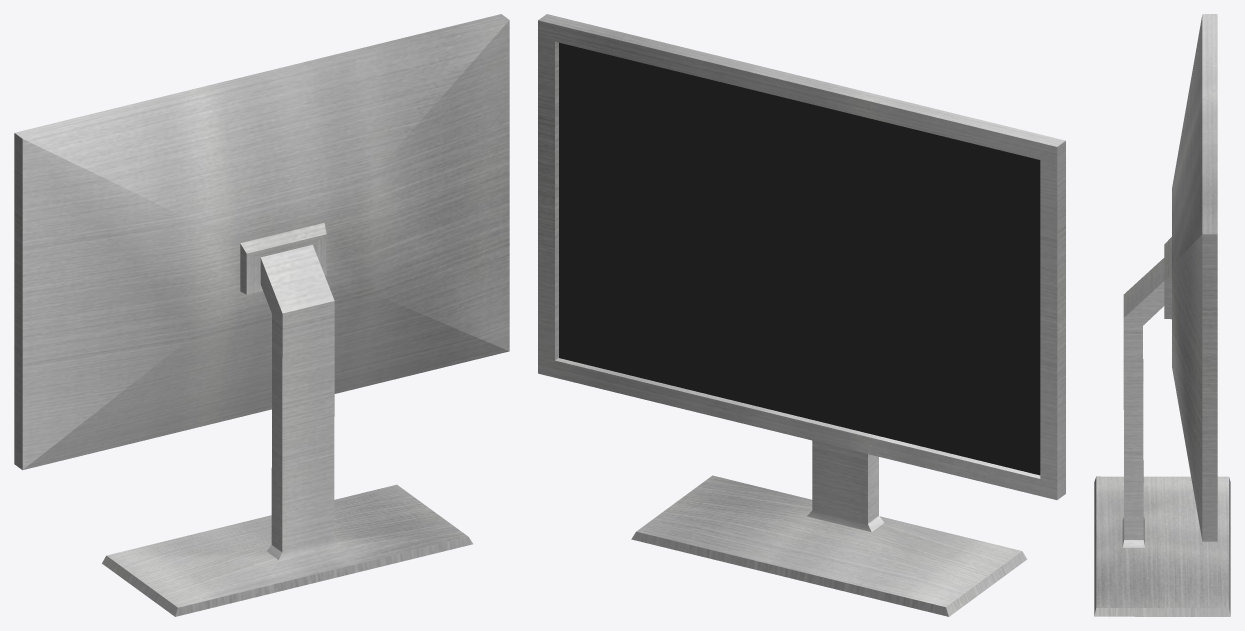
The model's file is screen.fbx.
3 renders of one model, left to right at view 1: azimuth 30°, elevation 25°; view 2: azimuth 150°, elevation 25°; view 3: azimuth 270°, elevation 25°, orthographic. The views are drawn at different scales.
Parts seen in each view (by area): view 1: screen; view 2: screen; view 3: screen.
Boxes of the visible parts, x1,y1,x2,y2 form: screen: [14, 14, 509, 616]; screen: [538, 14, 1065, 616]; screen: [1094, 14, 1230, 616].
Size of the model in its own units: 1.4 by 1.26 by 0.3669.
